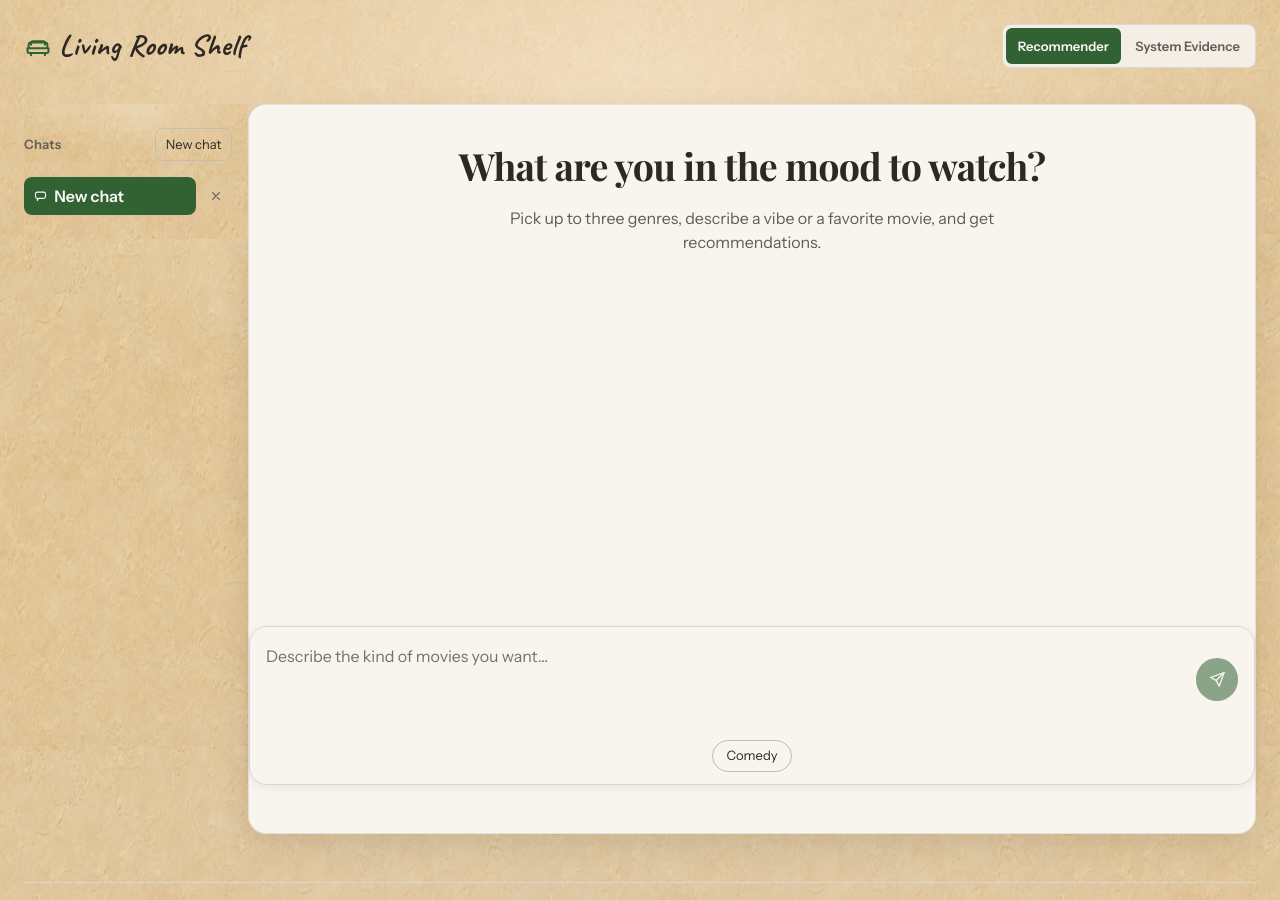
Scenario: App conversational RAG chat › clicking strip card sends append seed chat turn
The width and height of the screenshot is (1280, 900).
Click the button "Comedy": [752, 756] box [712, 740, 792, 772]
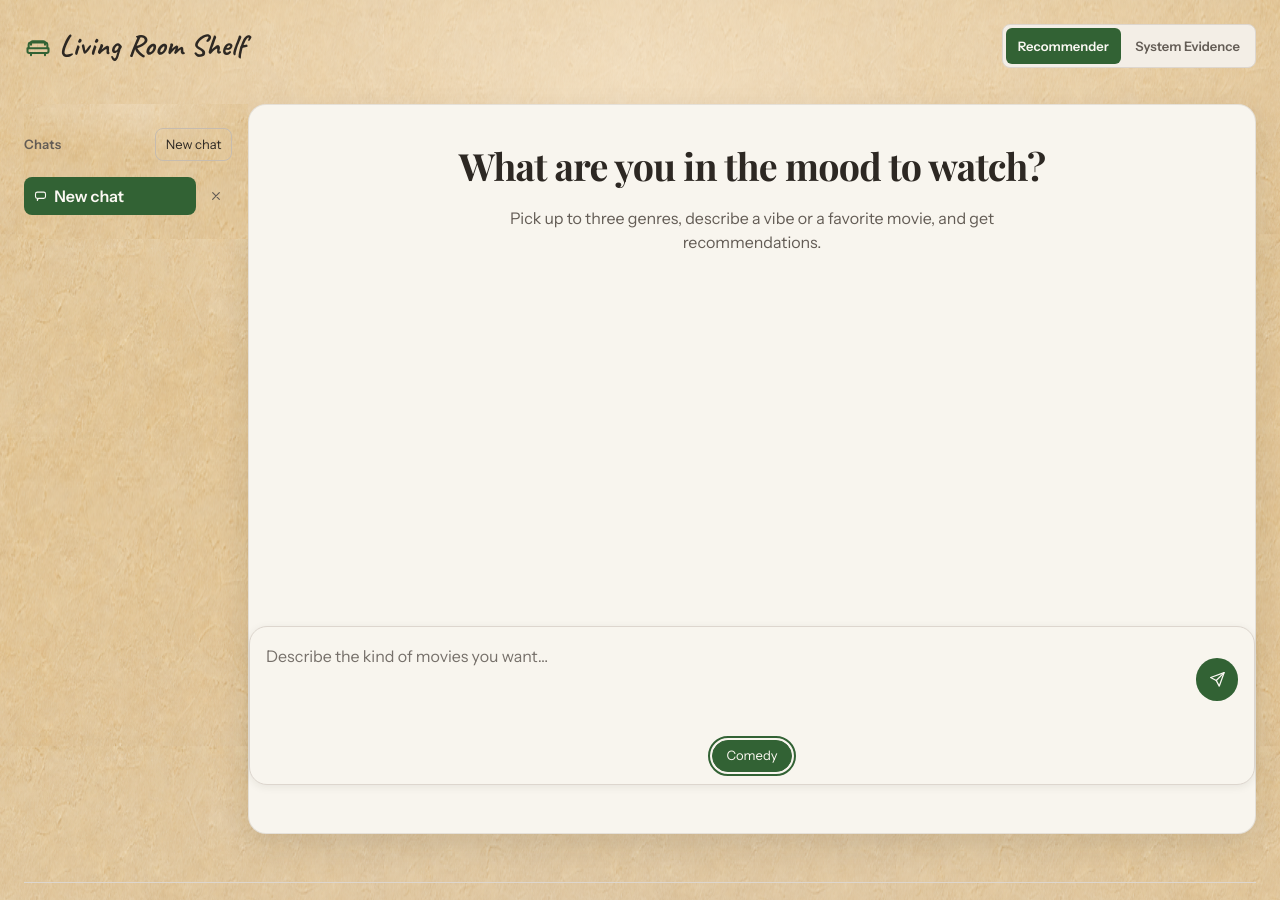
In the text box with placeholder "Describe the kind of movies you want…": [728, 679] box [266, 639, 1190, 720], type "first"
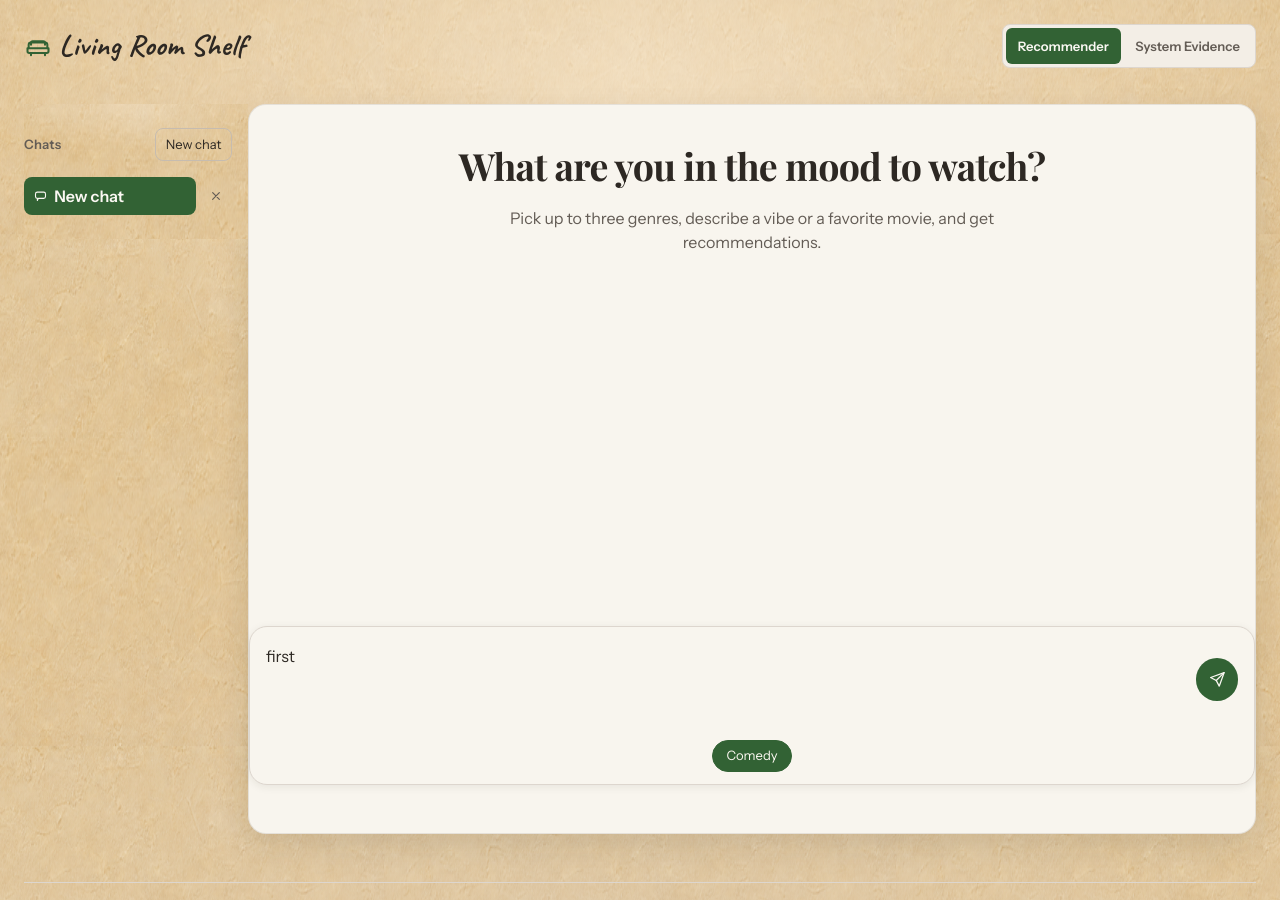
Click the button named "Send": [1217, 679] box [1196, 658, 1238, 700]
(page scrolled)
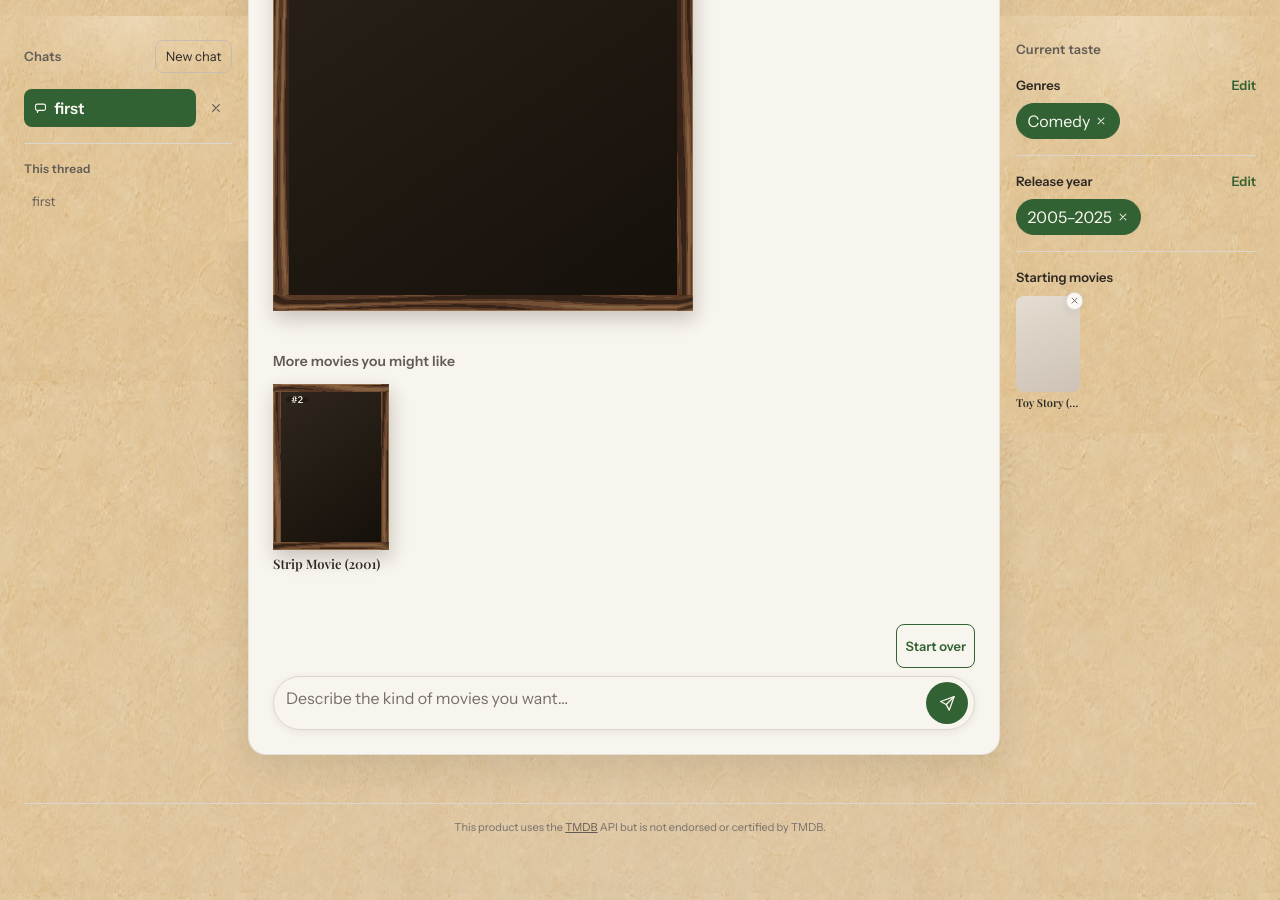
Click the button named "Add Strip Movie (2001) to starting movies": [331, 467] box [273, 384, 389, 550]
(page scrolled)
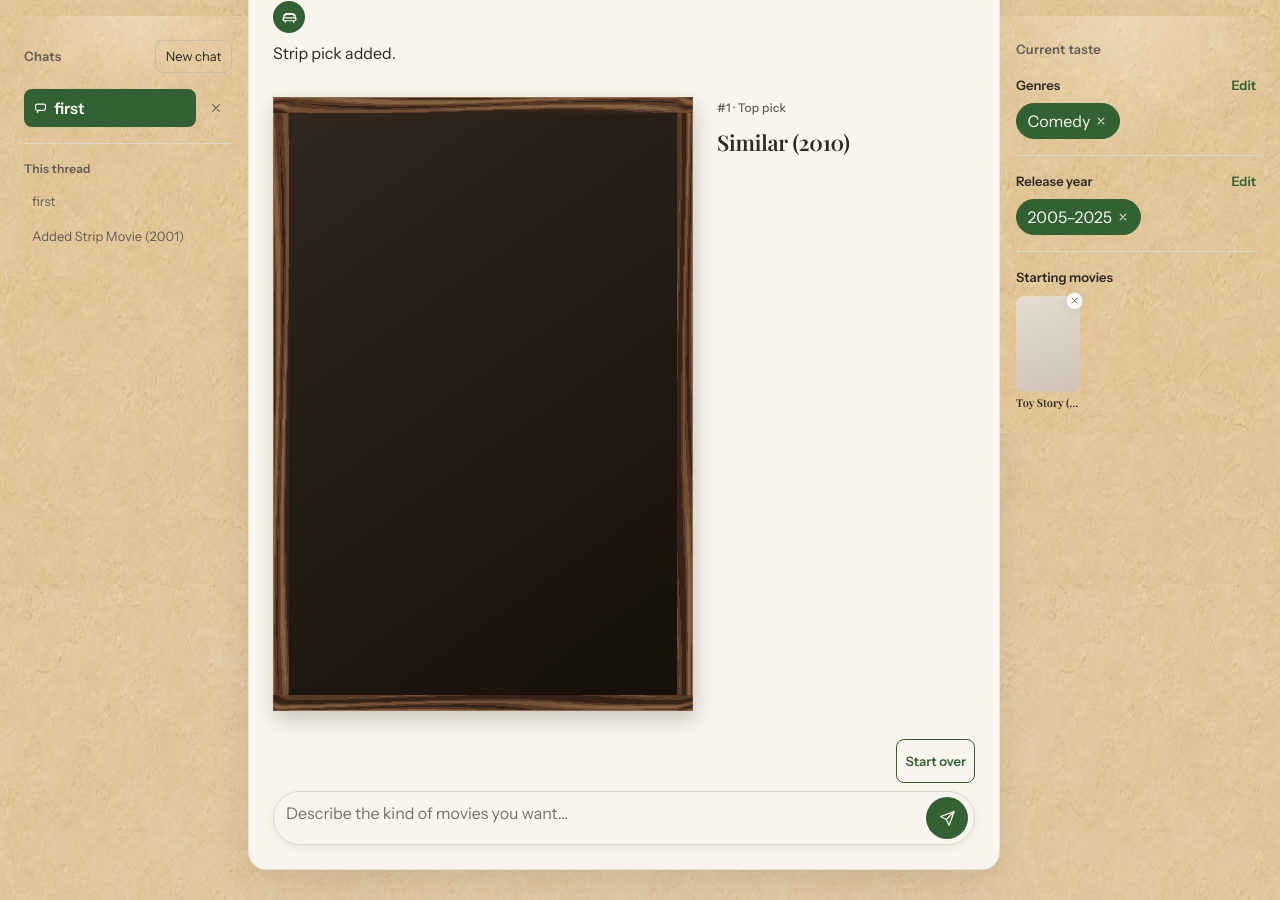
Expected: the text "Strip pick added." is shown, [273, 43, 396, 63]
